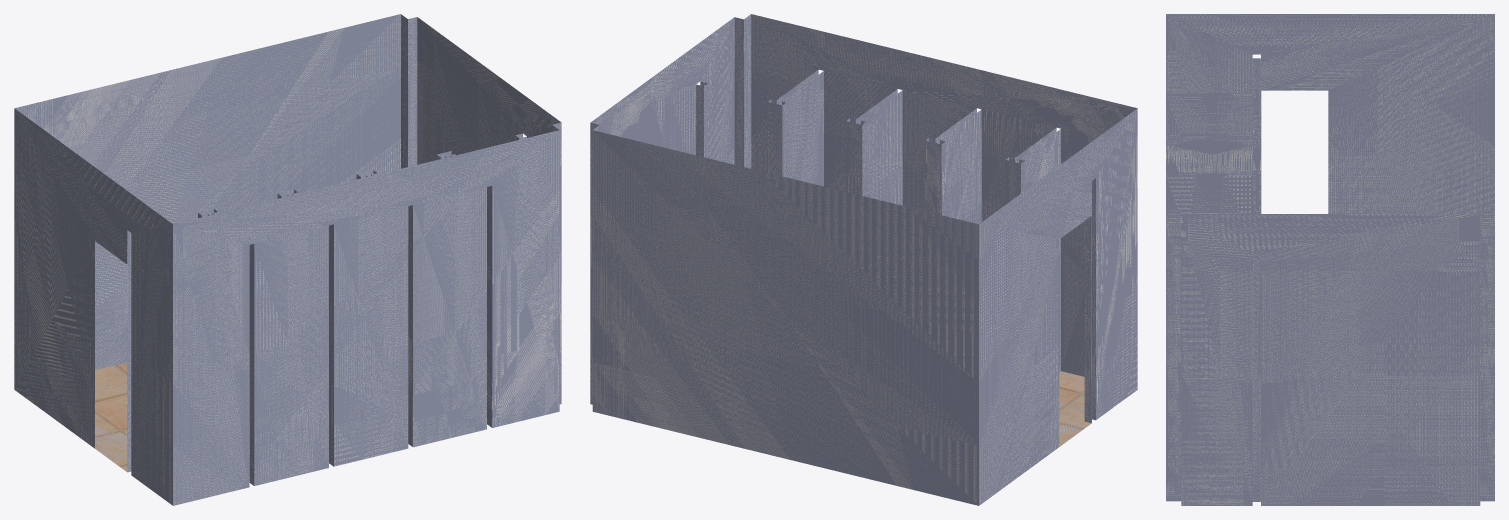
Rendered from COM052.obj.
The picture shows the model from 3 angles, left to right: view 1: azimuth 30°, elevation 25°; view 2: azimuth 150°, elevation 25°; view 3: azimuth 270°, elevation 25°; orthographic projection. The views are drawn at different scales.
Parts seen in each view (by area): view 1: Mesh1 COM052 Model; view 2: Mesh1 COM052 Model; view 3: Mesh1 COM052 Model.
Part boxes in pixels (box(x1,y1,x2,y2)): Mesh1 COM052 Model: box(14, 14, 561, 505); Mesh1 COM052 Model: box(590, 14, 1137, 505); Mesh1 COM052 Model: box(1166, 14, 1494, 505).
Bounding box in the file's own units: 4.42 × 3 × 3.07.
3 materials, 2 textured.
